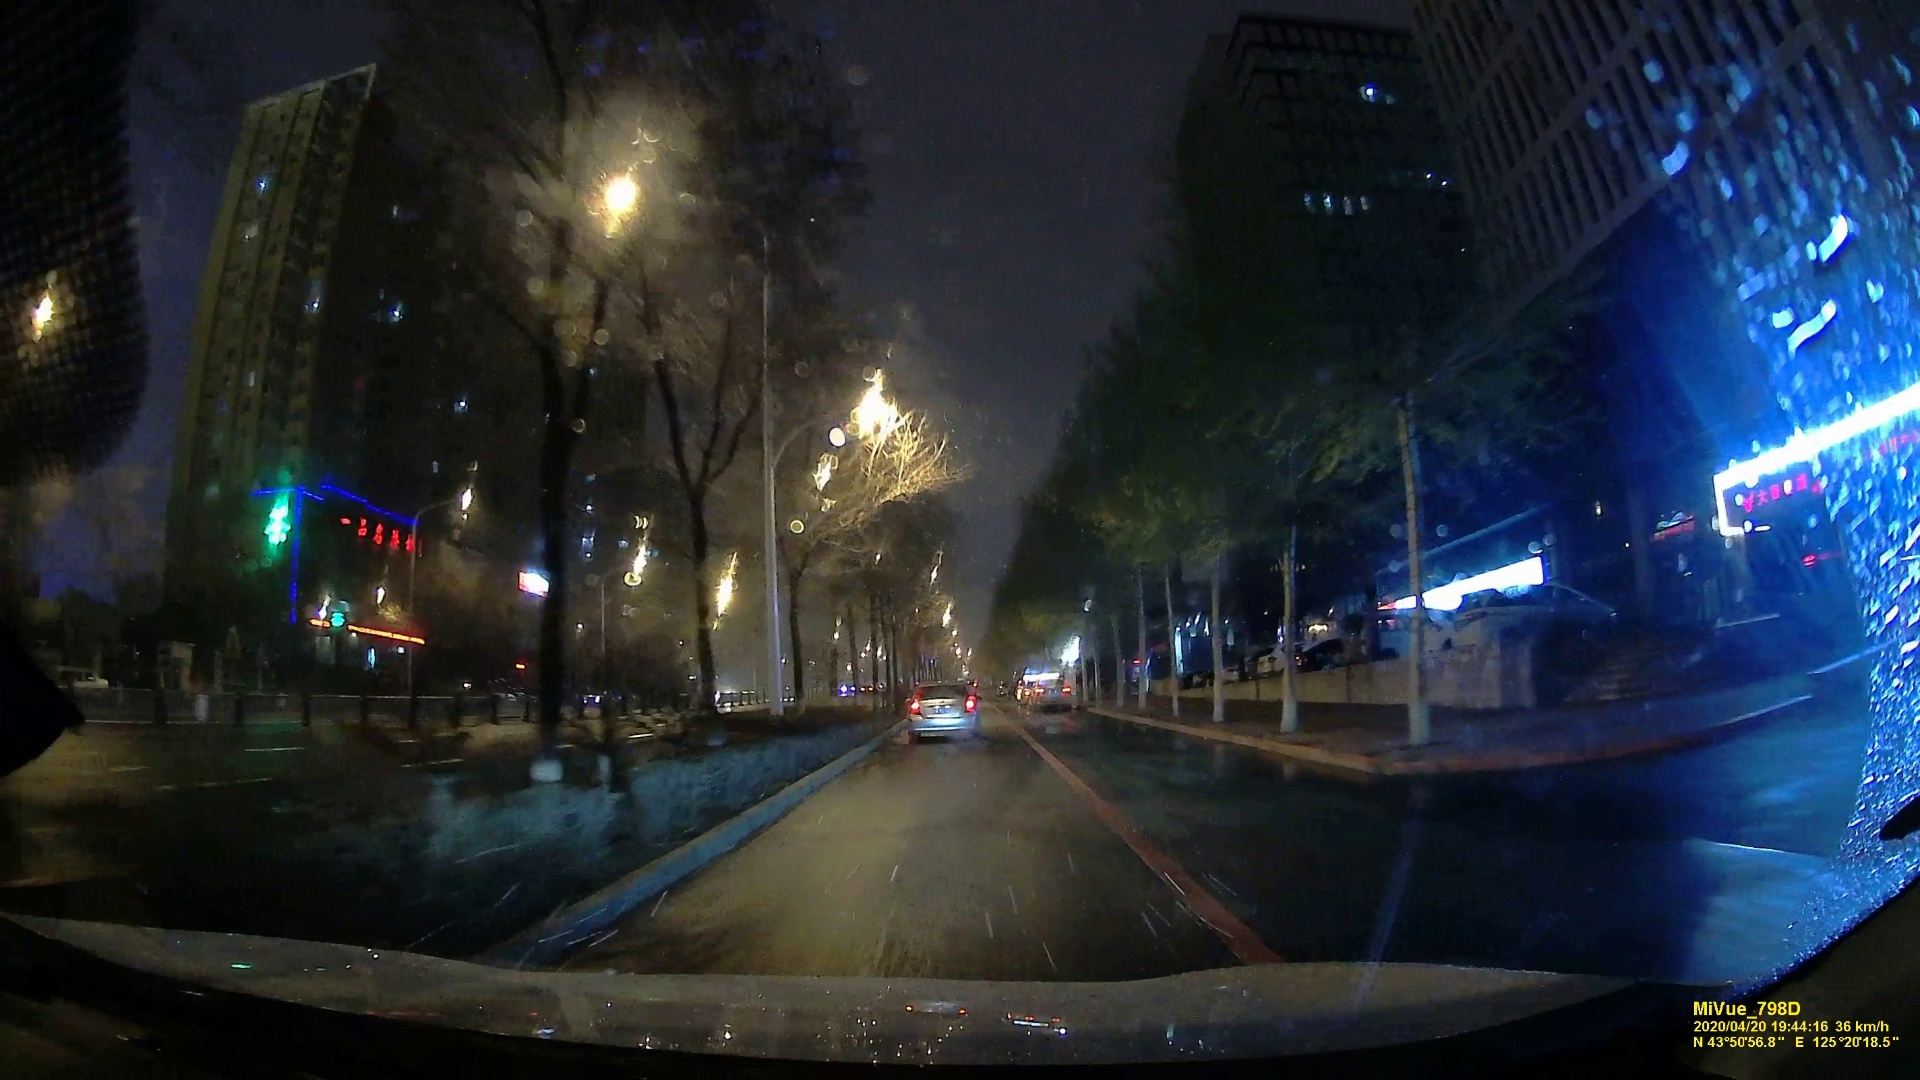vehicle: (907, 679, 975, 736), (1030, 679, 1071, 707)
